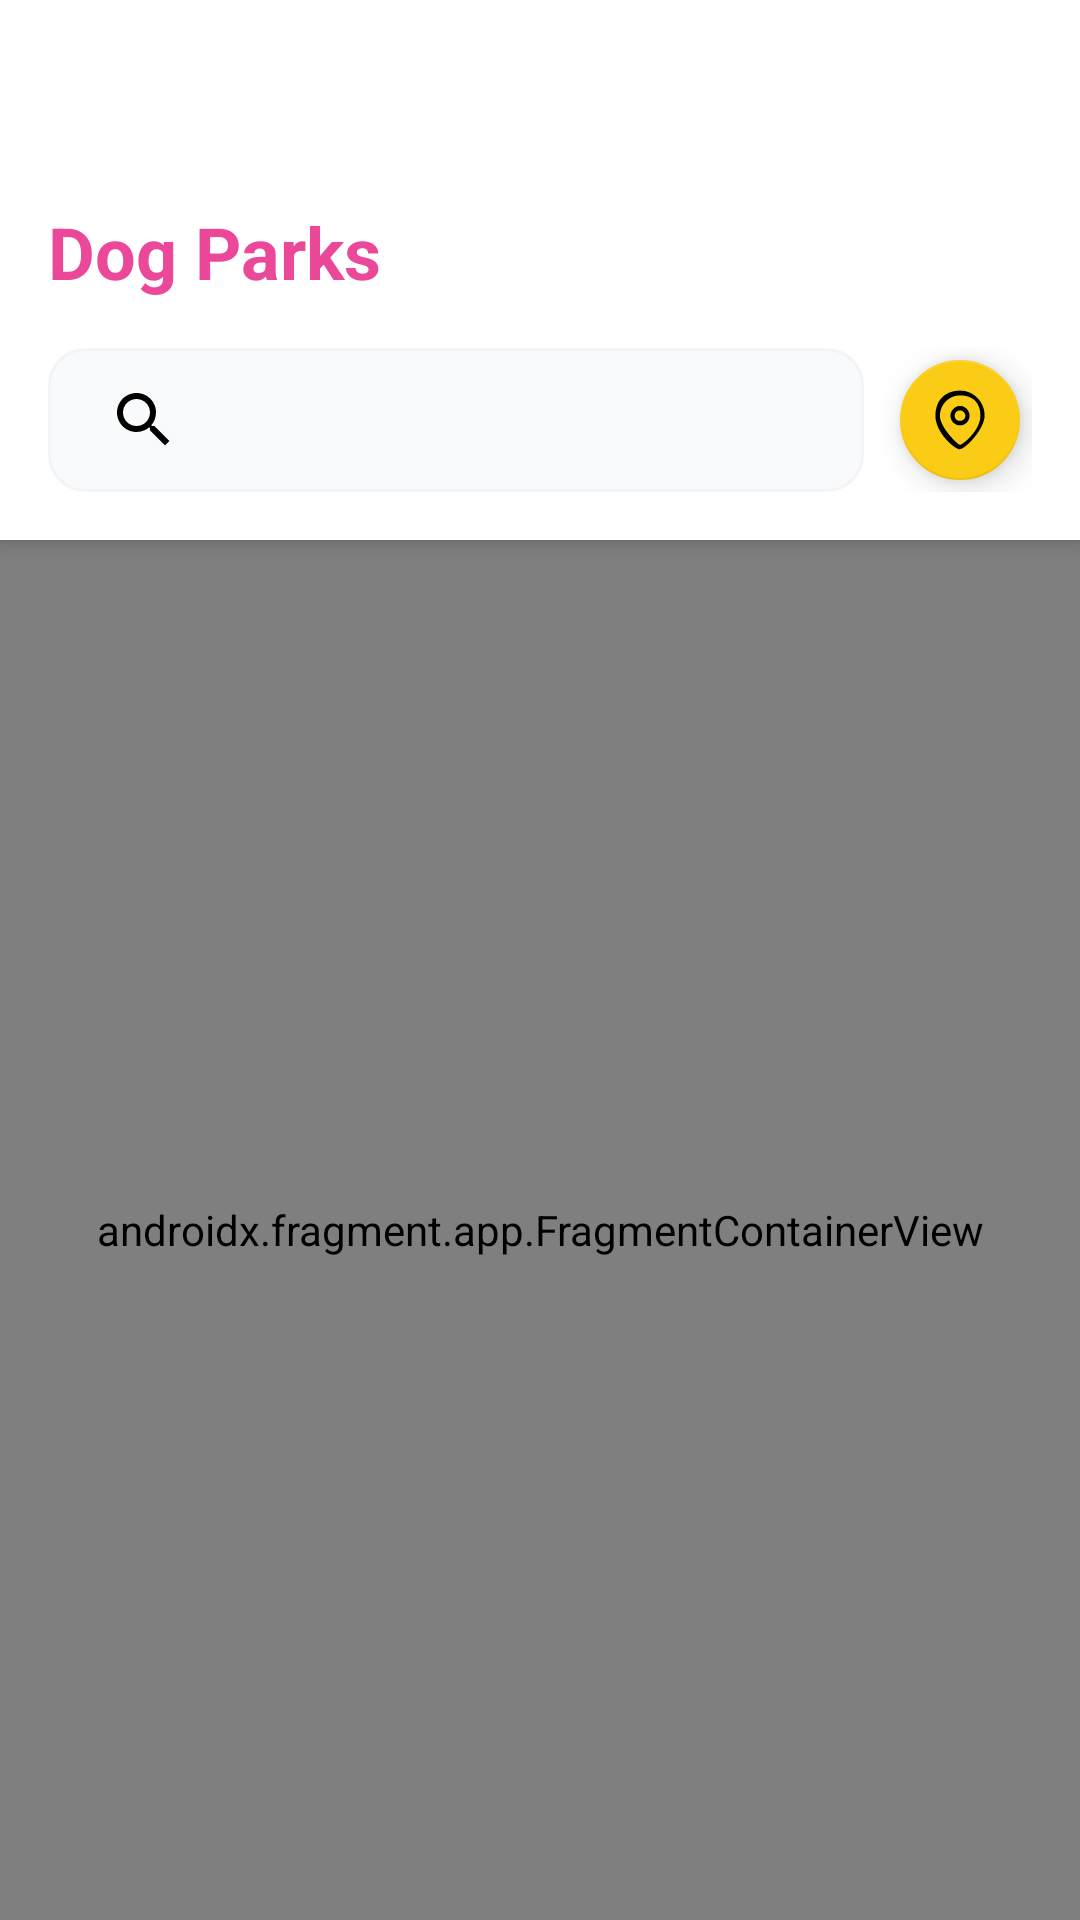

Icon click points for this 1080x1920 phone screenshot, format [x,y]:
Get my location: [961,421]
